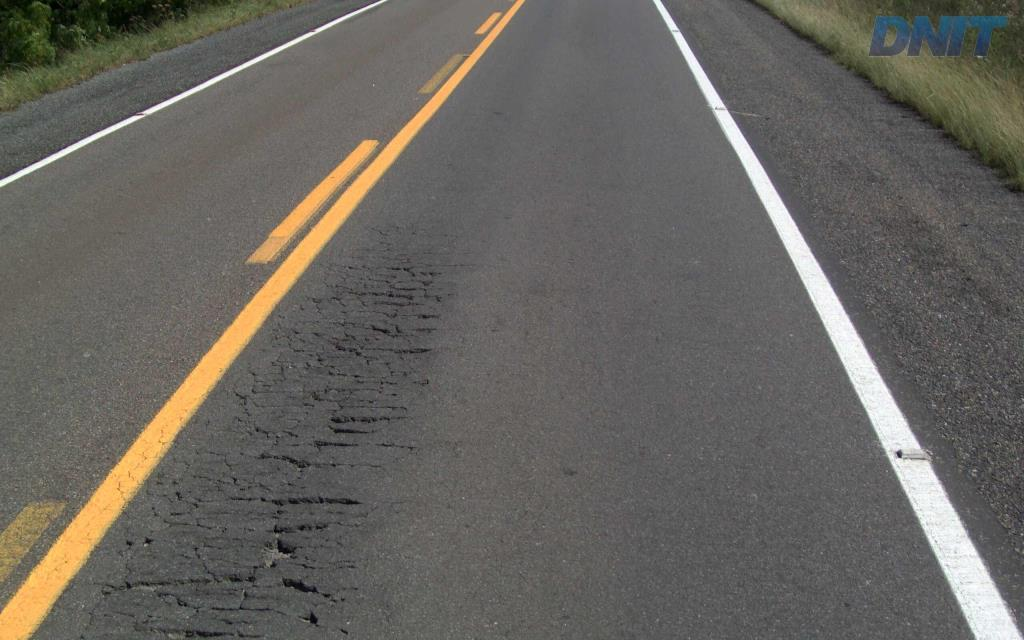crack: (105, 559, 222, 596), (327, 337, 432, 365), (335, 275, 424, 307), (276, 575, 337, 603), (229, 495, 363, 507), (254, 452, 322, 473), (219, 562, 266, 589), (329, 409, 392, 424), (156, 627, 234, 639), (263, 537, 303, 559), (265, 521, 331, 534)
